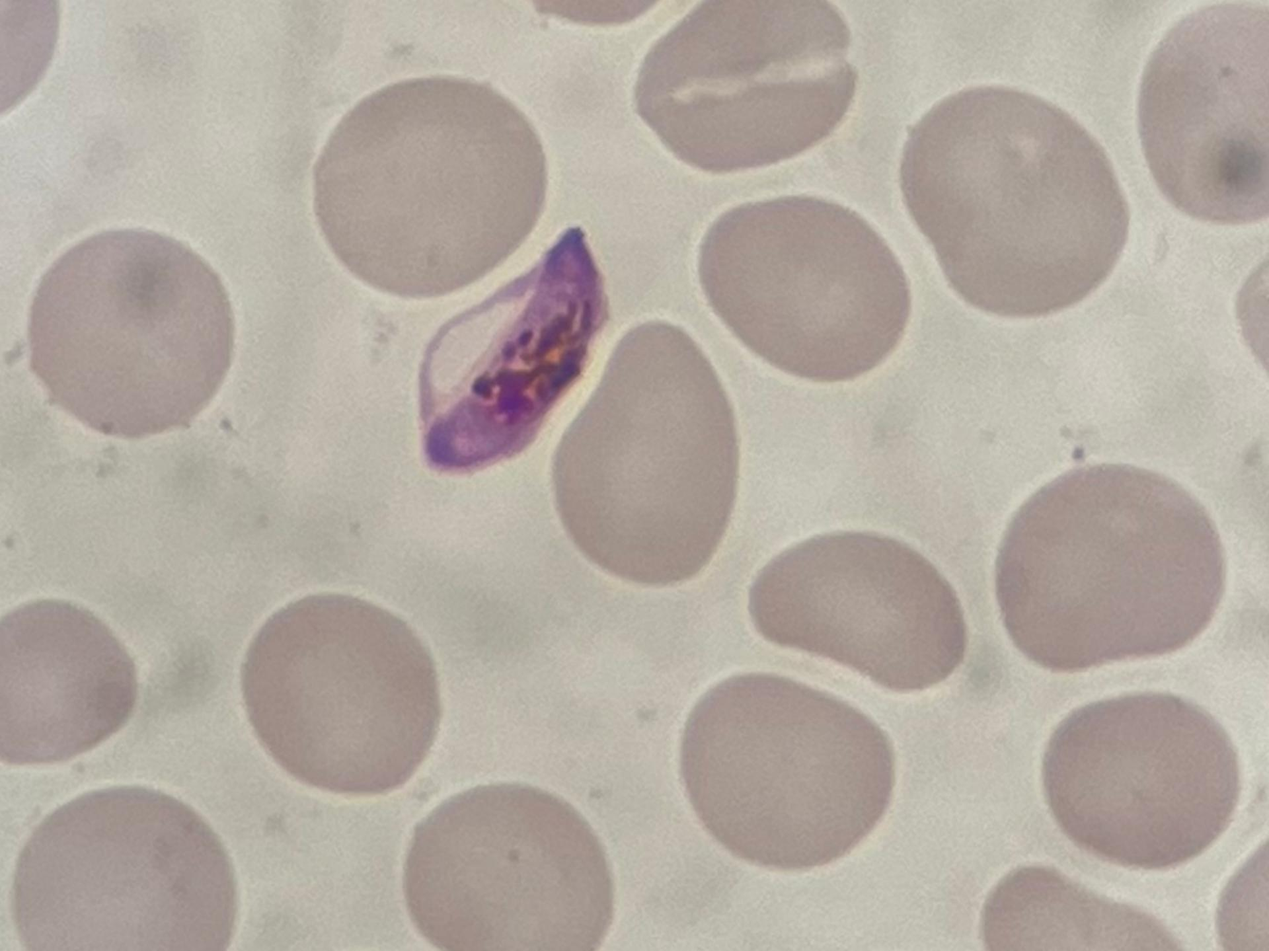Infected: (417, 231, 614, 470)
Uninfected: (903, 81, 1137, 322), (311, 76, 558, 296), (549, 320, 743, 591), (999, 466, 1230, 672), (680, 663, 900, 871), (30, 237, 241, 436), (242, 594, 443, 792), (698, 195, 904, 386), (635, 0, 859, 173), (15, 782, 241, 951), (751, 529, 970, 694), (1044, 693, 1240, 869), (406, 785, 604, 951), (1137, 5, 1269, 226), (0, 600, 139, 764)
